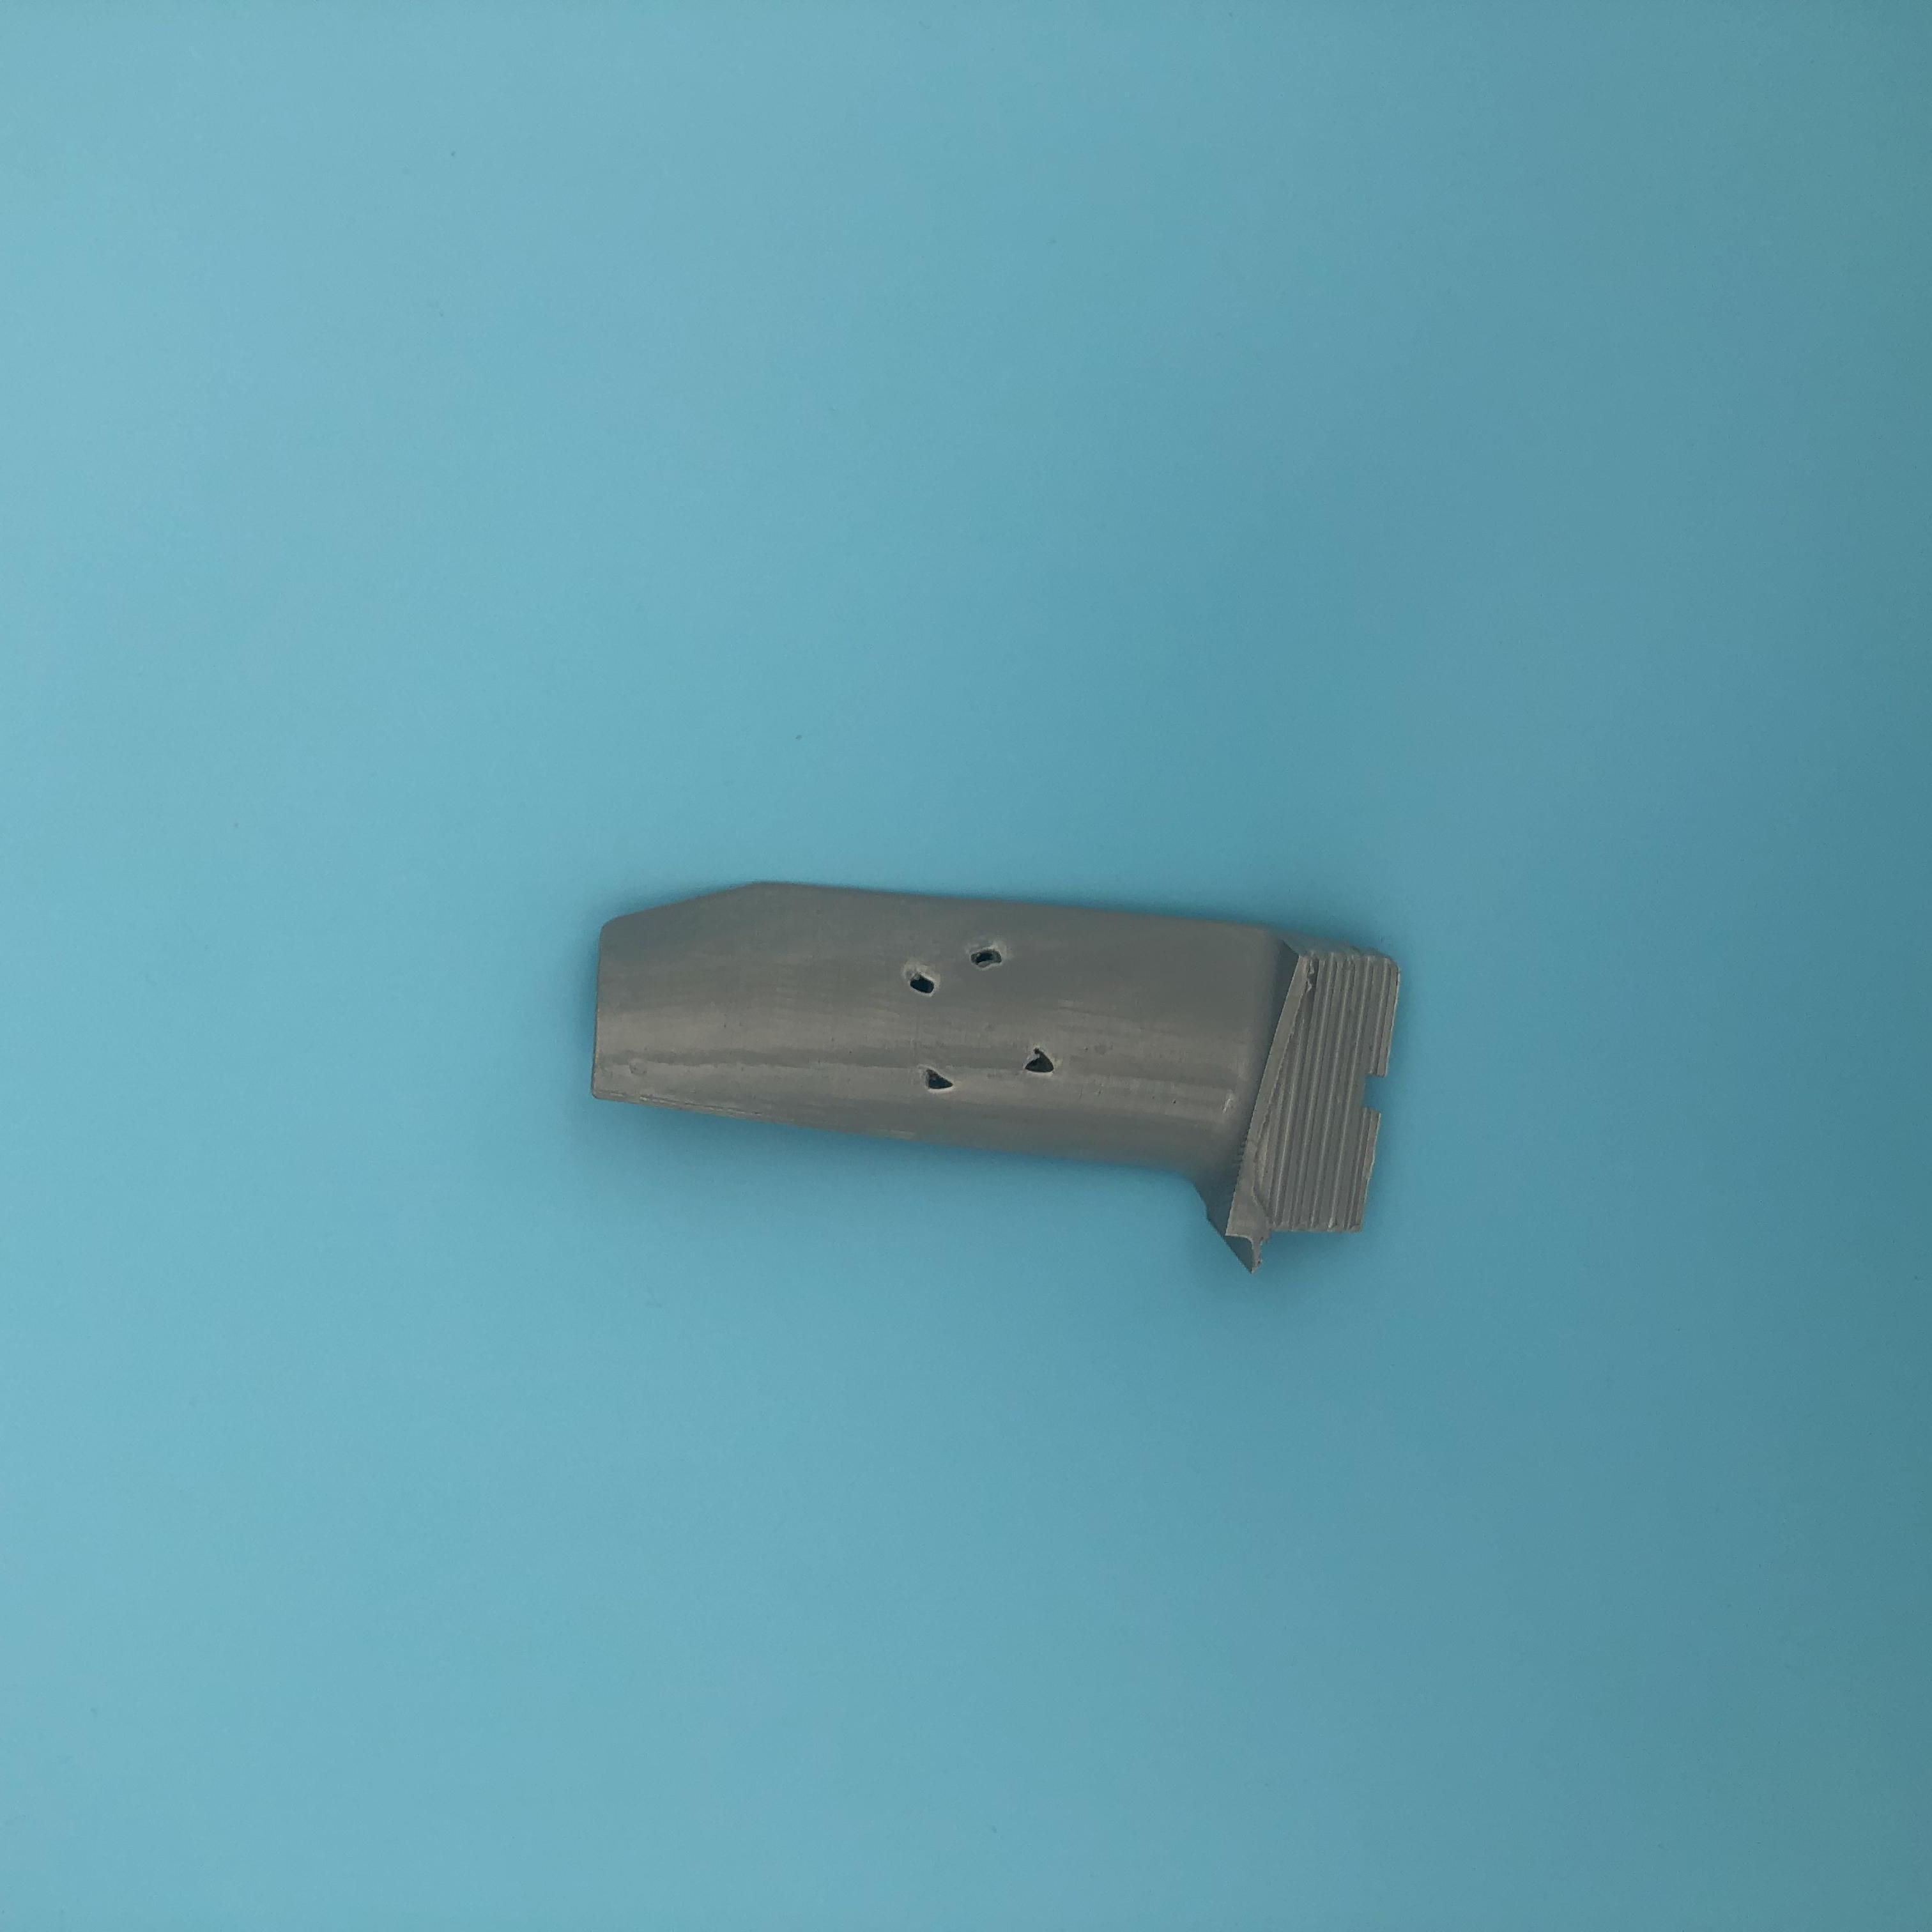breakdown: (890, 939, 1053, 1102)
